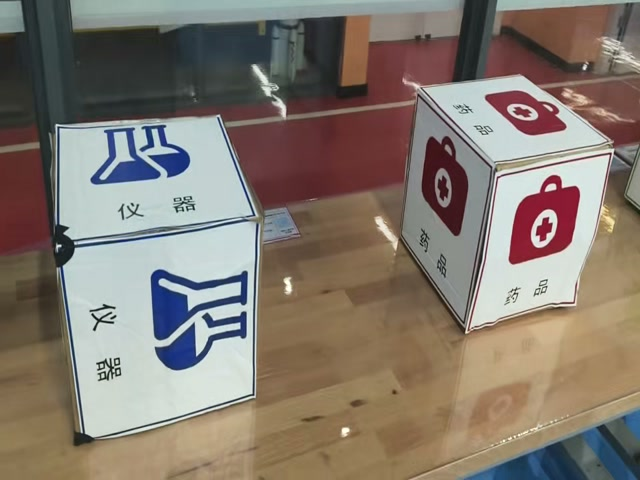Cube_ins: (51, 119, 269, 250)
Cube_medicine: (415, 75, 619, 172)
